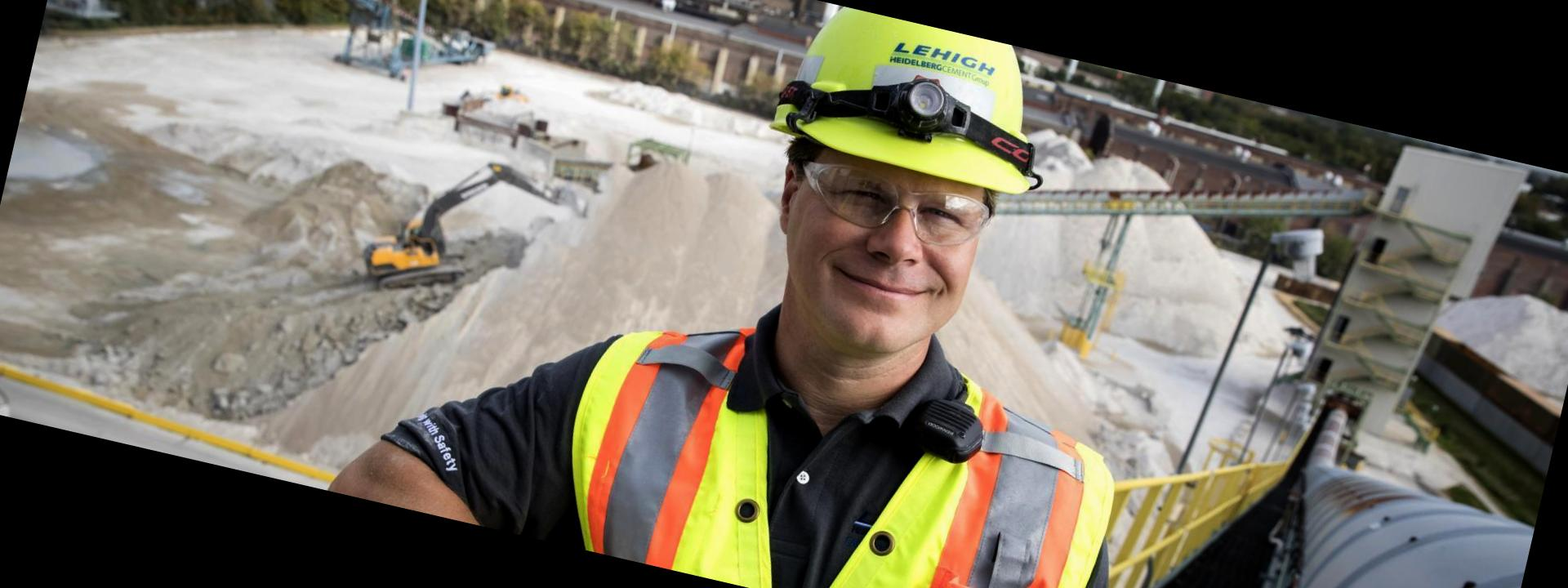helmet: (766, 0, 1073, 218)
person: (483, 0, 1239, 588)
